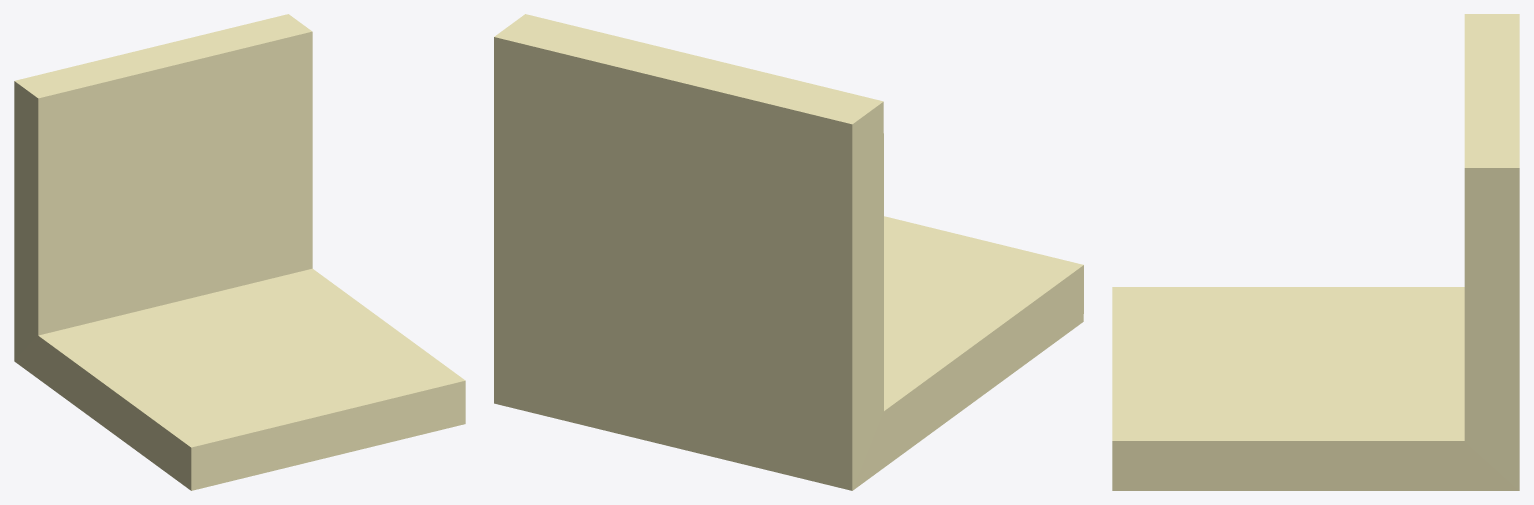
The model's file is Itr_Officechair_Seat_02.FBX.
3 views of the same model, side by side, from view 1: azimuth 30°, elevation 25°; view 2: azimuth 150°, elevation 25°; view 3: azimuth 270°, elevation 25° (orthographic). The views are drawn at different scales.
Visible parts, largest first — view 1: Itr_Officechair_Seat_02; view 2: Itr_Officechair_Seat_02; view 3: Itr_Officechair_Seat_02.
Part boxes in pixels (x1=…): Itr_Officechair_Seat_02: x1=14, y1=14, x2=465, y2=490; Itr_Officechair_Seat_02: x1=494, y1=14, x2=1083, y2=490; Itr_Officechair_Seat_02: x1=1112, y1=14, x2=1519, y2=490.
Bounding box in the file's own units: 25.33 × 24.73 × 28.29.
